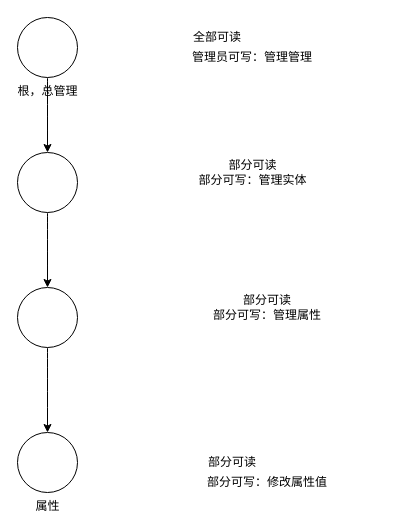
Image size: 400x531. Some labels were removed from this diagram. The shapes that lost their labels are listed below. From the top down, each one's centre as x and y in pixels, then its label:
pixel 47 182: 管理
pixel 47 317: 实体
